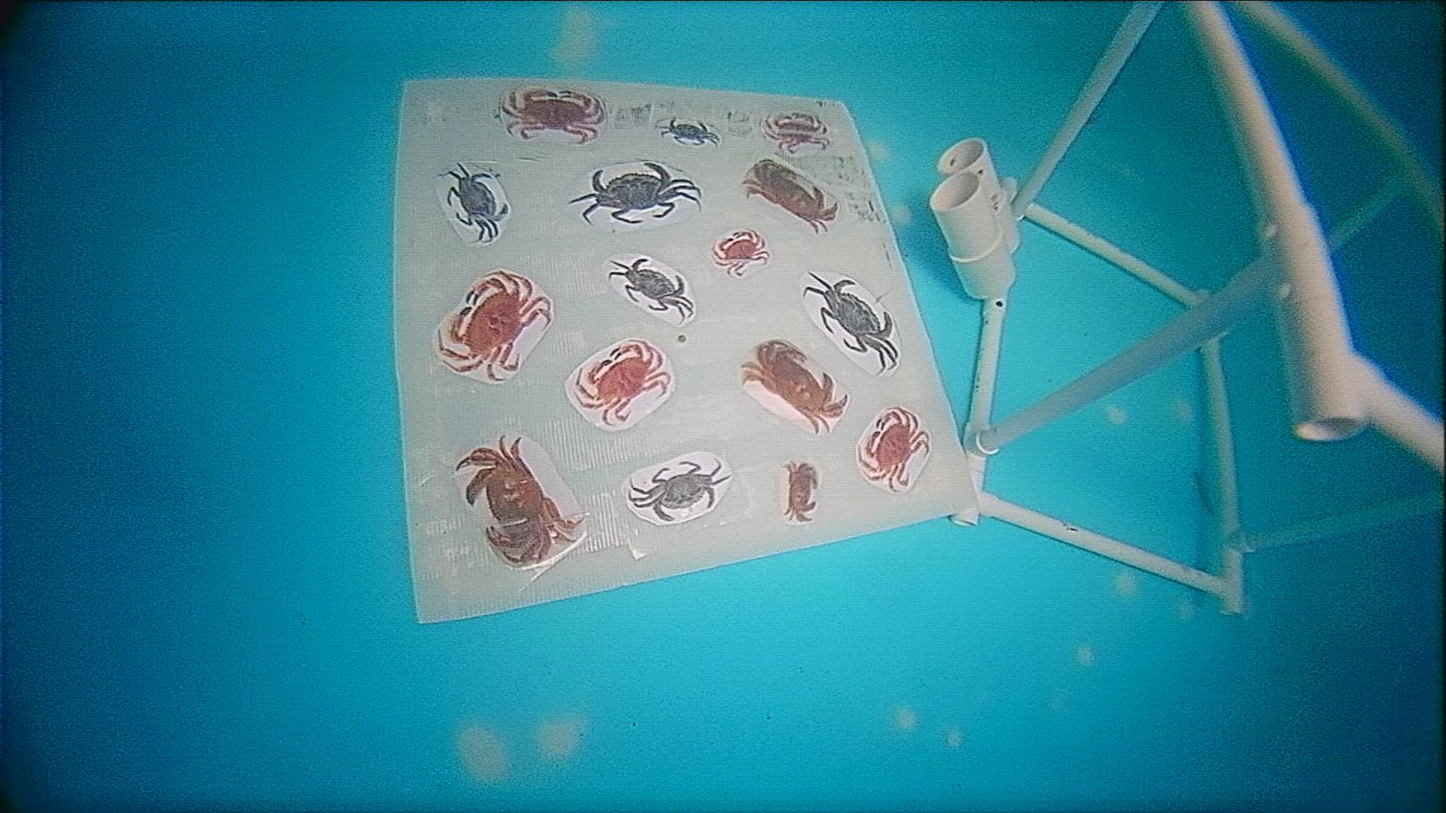GreenCrab: (804, 273, 896, 372), (569, 162, 700, 224), (629, 461, 730, 521), (609, 257, 693, 315), (447, 163, 508, 242)
